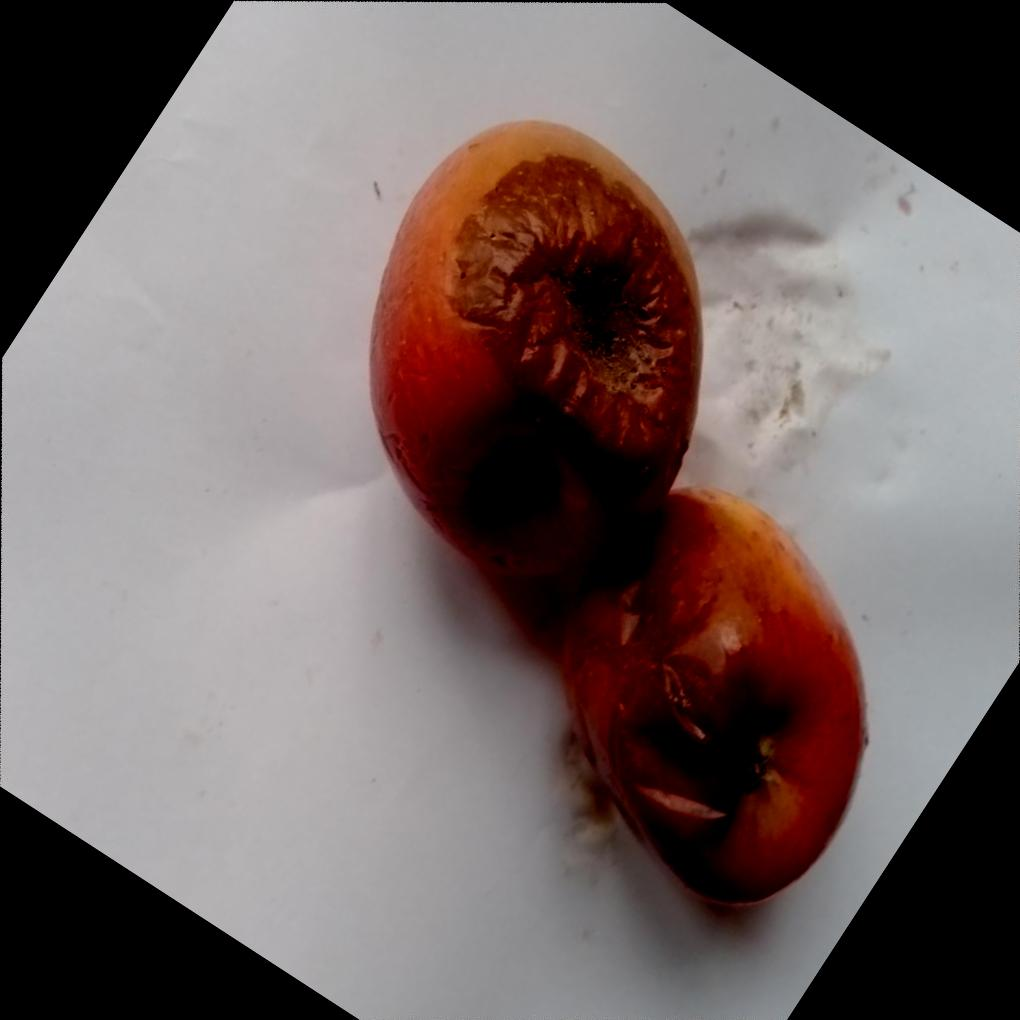FreshOrange: (363, 113, 860, 893)
